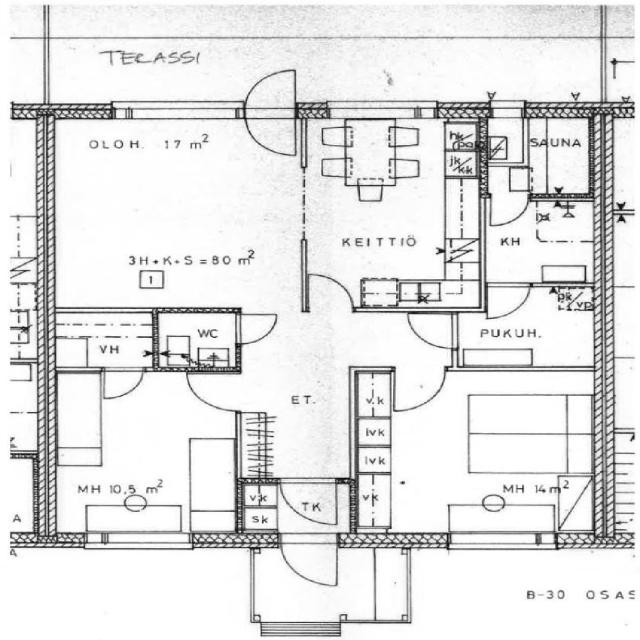door: (278, 535, 342, 589), (276, 477, 340, 531), (242, 67, 298, 118), (242, 113, 303, 157), (300, 270, 360, 314), (403, 310, 464, 353), (184, 370, 242, 413), (392, 371, 446, 413), (482, 280, 534, 321), (230, 310, 282, 346), (99, 365, 147, 402), (484, 192, 530, 230)
window: (443, 529, 554, 554), (116, 101, 242, 123), (90, 531, 192, 551), (260, 618, 342, 639)
zone: (49, 120, 311, 312), (303, 116, 476, 312), (384, 378, 598, 536), (50, 370, 242, 531), (236, 304, 367, 485), (457, 283, 602, 370), (485, 195, 599, 286), (49, 312, 154, 368), (526, 117, 596, 199), (154, 312, 240, 371), (4, 254, 40, 361), (3, 457, 38, 532), (355, 369, 393, 418)
